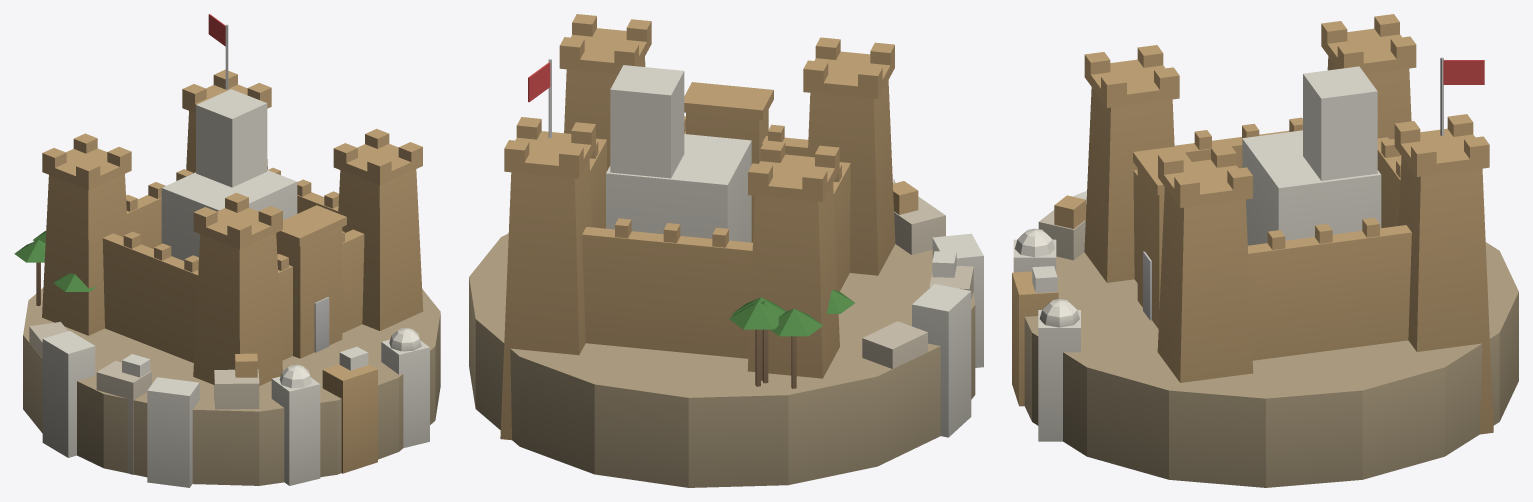
File: castle_isl_a.glb
3 renders of one model, left to right at view 1: azimuth 30°, elevation 25°; view 2: azimuth 150°, elevation 25°; view 3: azimuth 270°, elevation 25°, orthographic. The views are drawn at different scales.
Parts seen in each view (by area): view 1: castle_isl_a; view 2: castle_isl_a; view 3: castle_isl_a.
Boxes of the visible parts, x1,y1,x2,y2 form: castle_isl_a: [14, 14, 440, 487]; castle_isl_a: [469, 14, 983, 487]; castle_isl_a: [1012, 14, 1518, 487].
Bounding box in the file's own units: 1.93 × 1.5 × 1.9.
